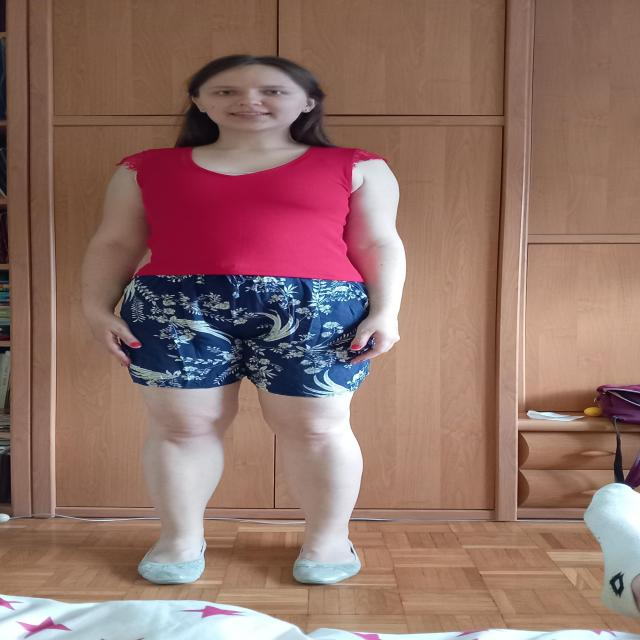Tshirt: (116, 146, 388, 282)
short: (115, 275, 375, 397)
